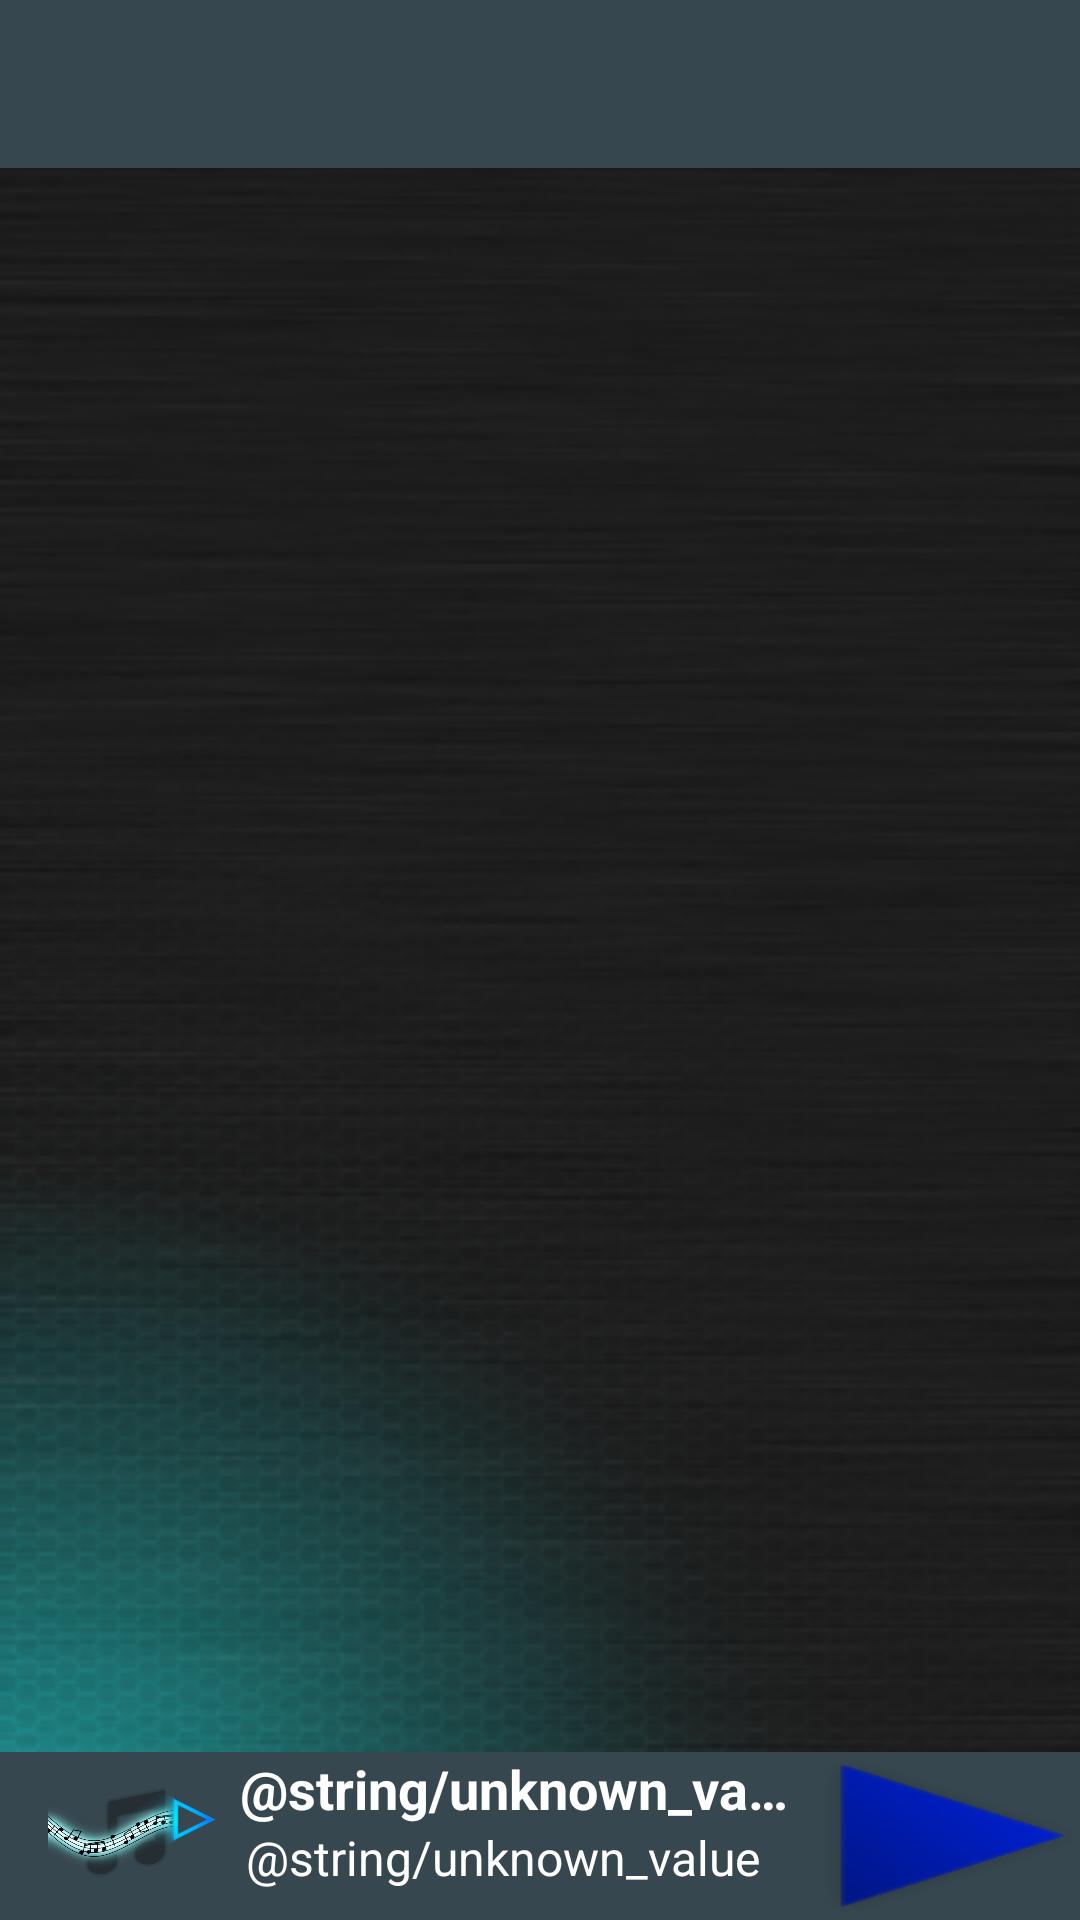

Screen size 1080w x 1920h. Icon name, then its box in pixels as Rect(x1, y1, x2, y2):
no album: Rect(48, 1791, 215, 1874)
